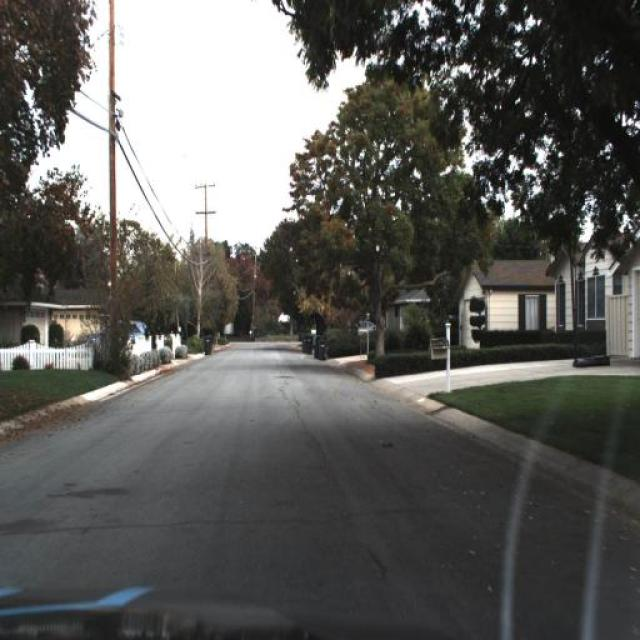car: (90, 316, 158, 352)
